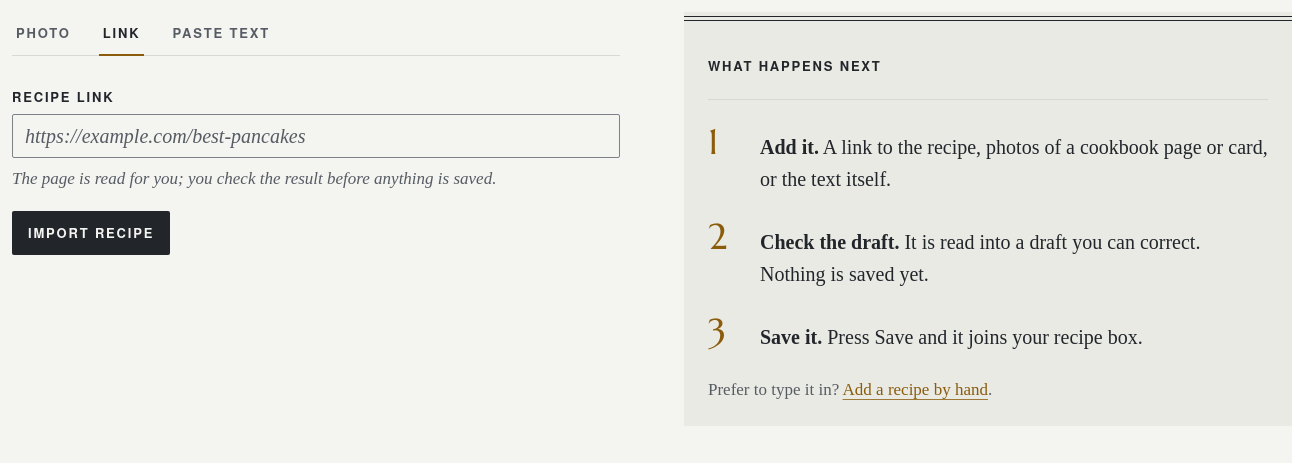
Test: ImportScreen › offers the text mode, keeping the link as the source, when the site blocks us
The image size is (1292, 463).
Type "https://example.com/pancakes" into the field labelled "Recipe link" at (316, 136), box [12, 114, 620, 158]
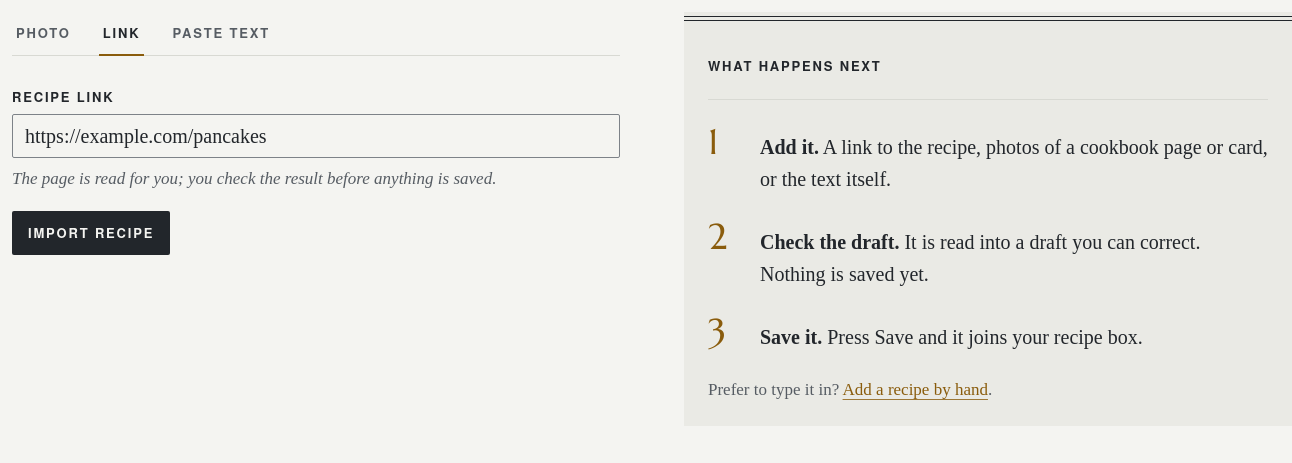
Click the button "Import recipe" at (91, 233), box [12, 211, 170, 255]
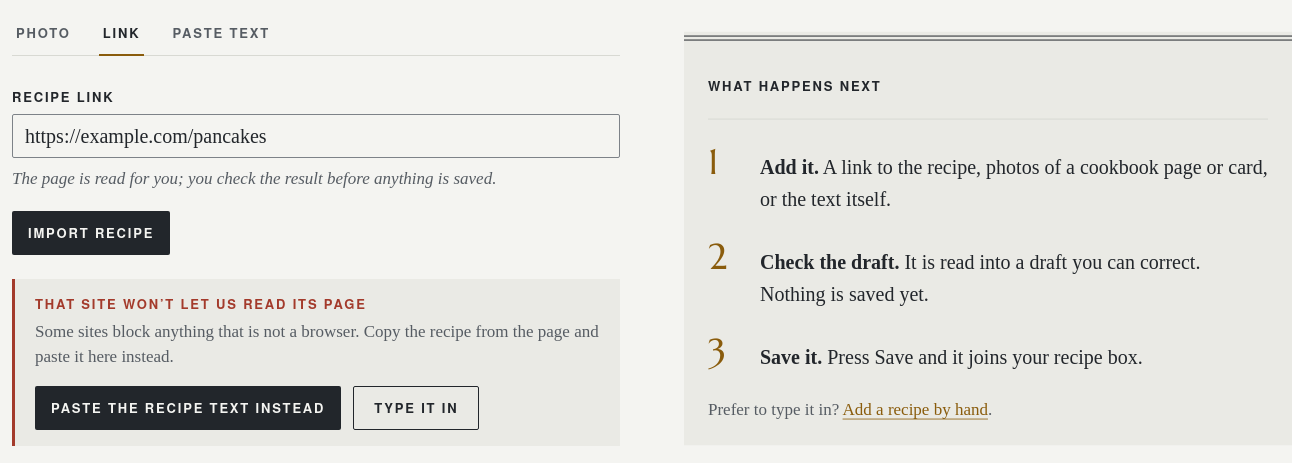
Result: the message shows "won’t let us read" at [35, 294, 367, 313]
Click the button "Paste the recipe text instead" at (188, 408), box [35, 386, 341, 430]
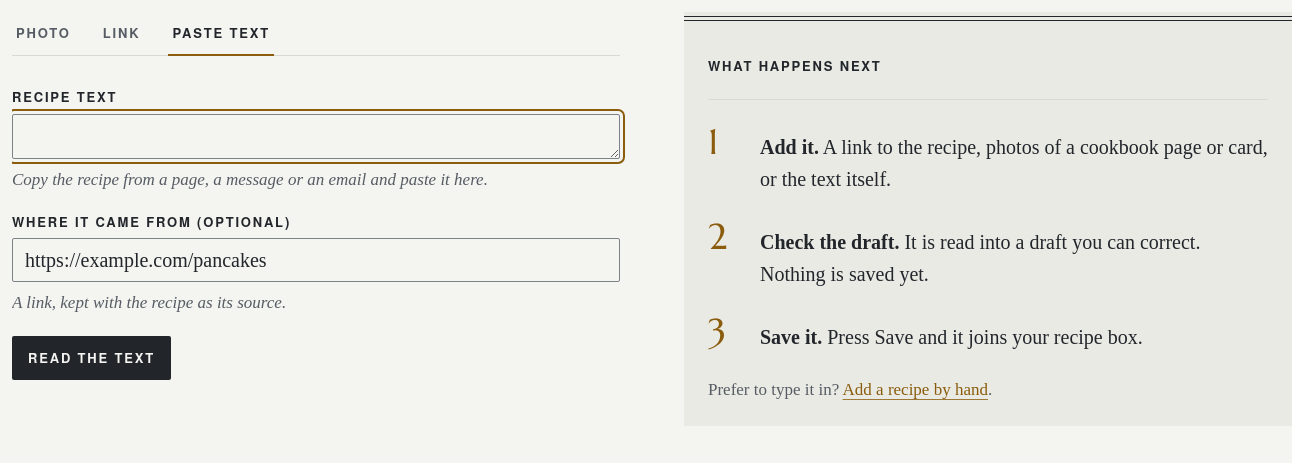
Expected: the tab "Paste text" is shown, [168, 12, 274, 56]
Result: the field labelled "Where it came from (optional)" holds "https://example.com/pancakes" at [12, 238, 620, 282]
